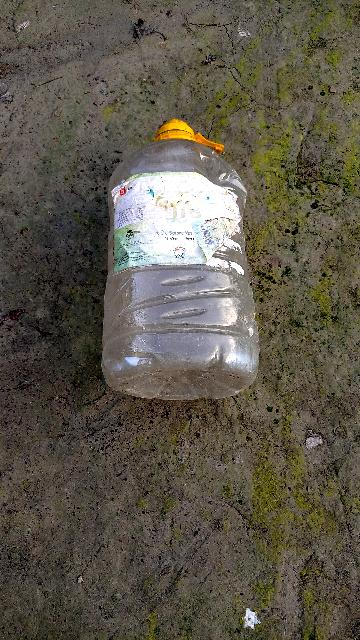bottle: (99, 118, 276, 399)
